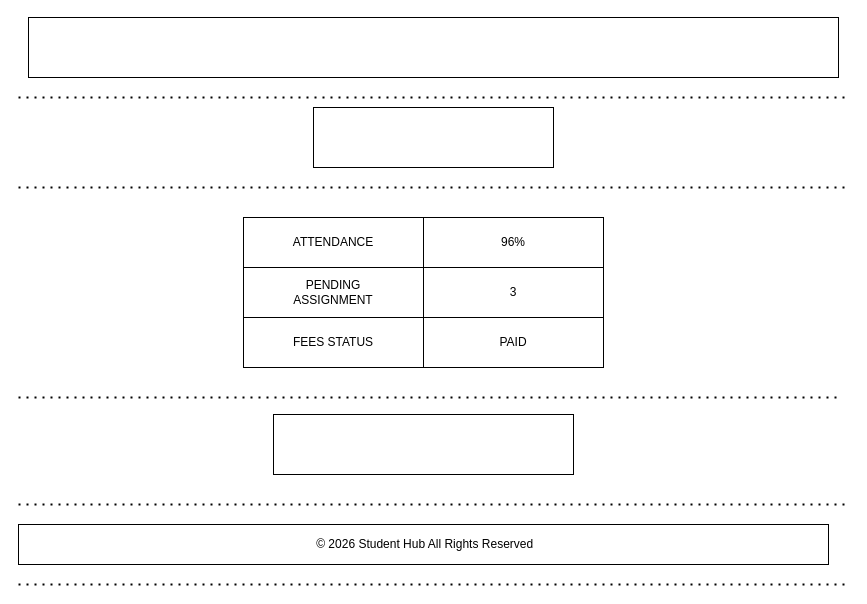
Image size: 867x604. Some labels were removed from this diagram. The centre of each missing label's shape, as x and y in pixels:
"back to home page" belongs at point (423, 444).
"STUDENT DASHBOARD" belongs at point (433, 137).
"STUDENT HUB" belongs at point (433, 47).
